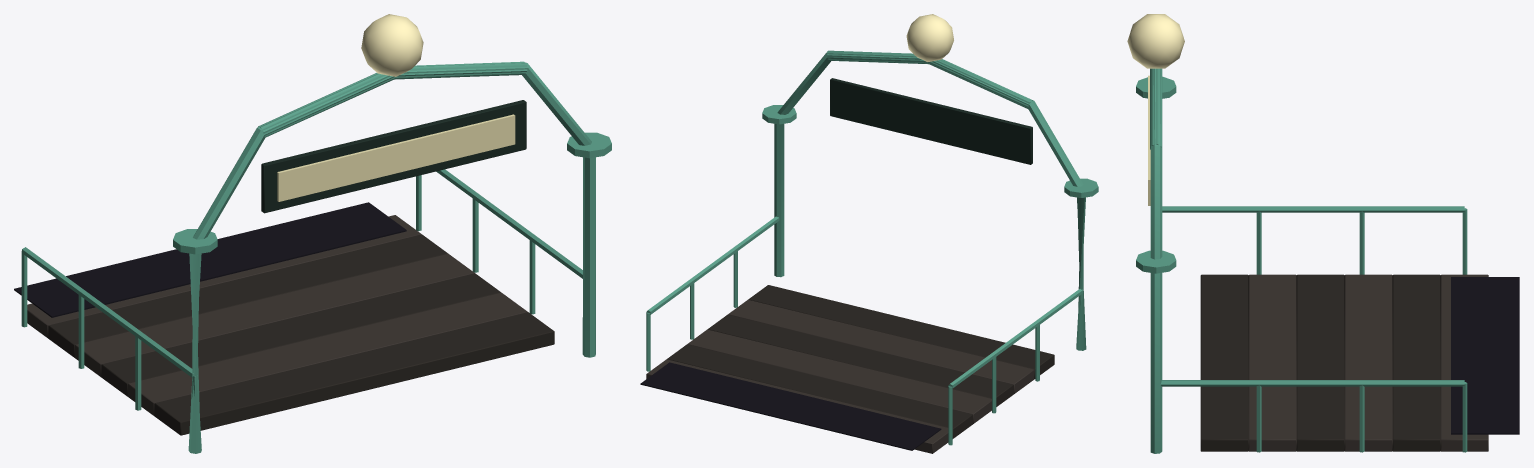
Rendered from metro_entrance.glb.
3 views of the same model, side by side, from view 1: azimuth 30°, elevation 25°; view 2: azimuth 150°, elevation 25°; view 3: azimuth 270°, elevation 25° (orthographic). The views are drawn at different scales.
Visible parts, largest first — view 1: metro_entrance; view 2: metro_entrance; view 3: metro_entrance.
Boxes of the visible parts, x1,y1,x2,y2 form: metro_entrance: (14, 14, 611, 453); metro_entrance: (640, 14, 1098, 453); metro_entrance: (1127, 14, 1519, 453).
Size of the model in its own units: 6.58 by 5.7 by 5.72.
